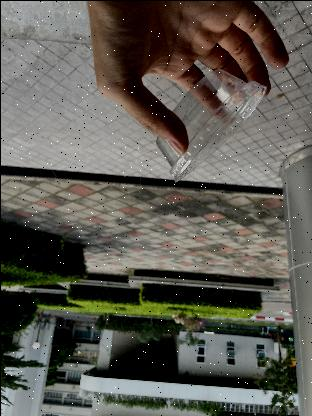Others: (147, 61, 265, 183)
